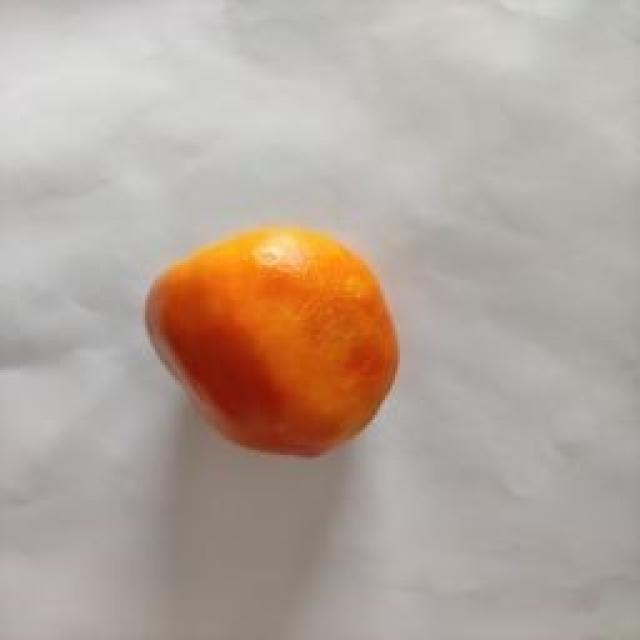Ripe: (143, 222, 402, 457)
